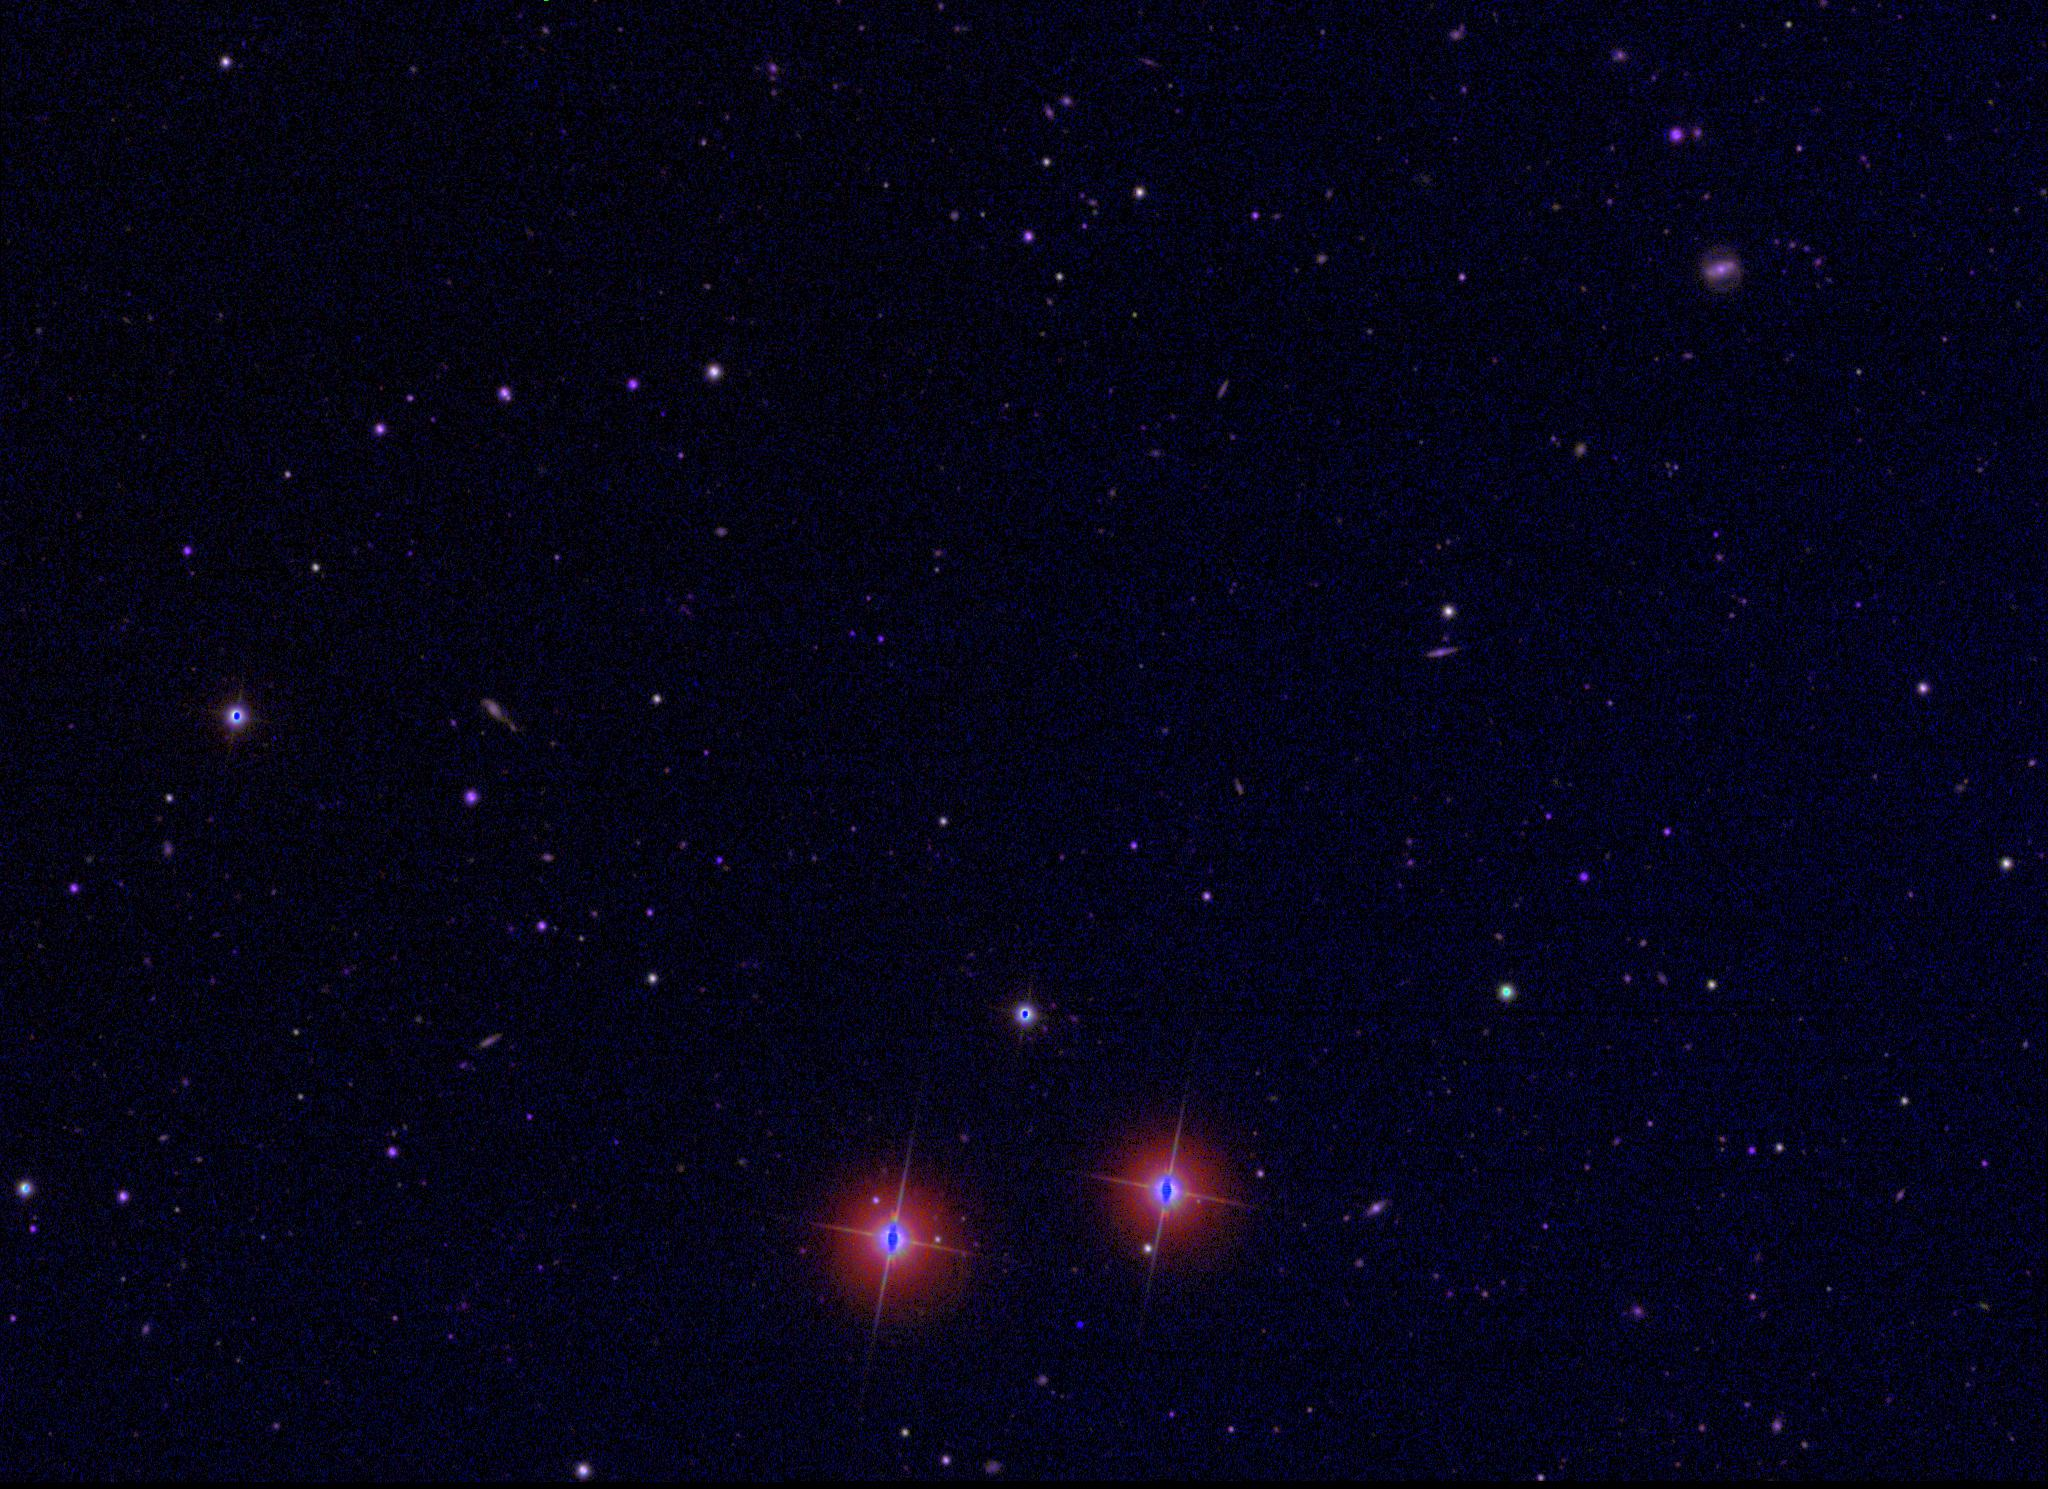L: (1072, 1320, 1086, 1335)
